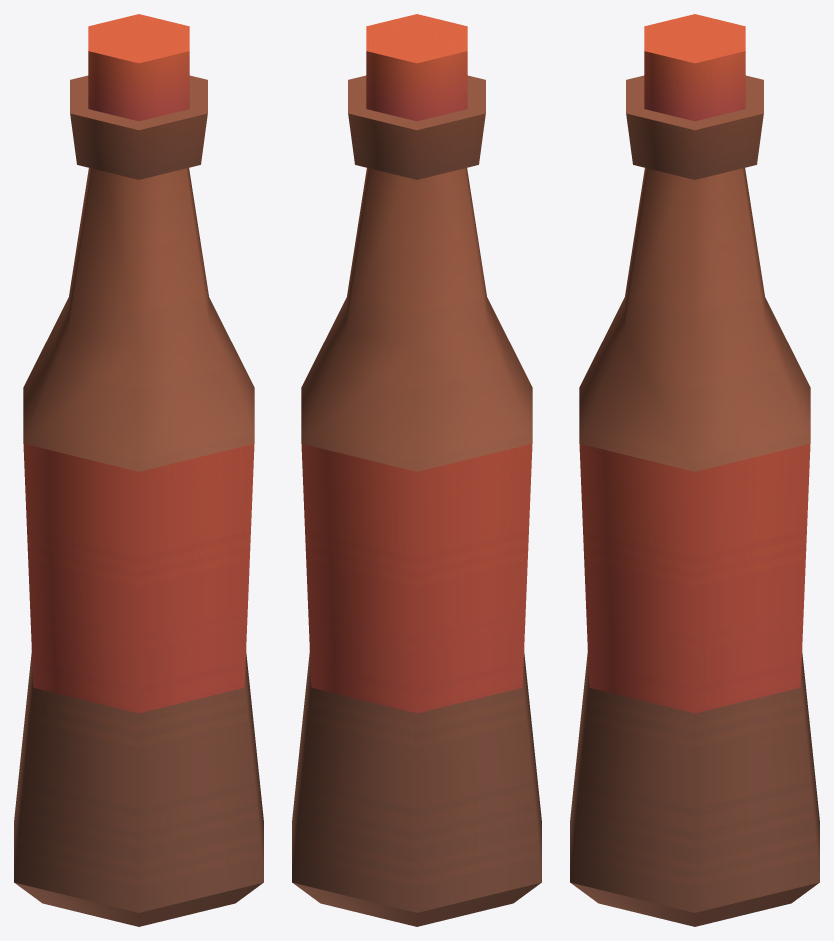
Rendered from soda-bottle.glb.
The picture shows the model from 3 angles, left to right: view 1: azimuth 30°, elevation 25°; view 2: azimuth 150°, elevation 25°; view 3: azimuth 270°, elevation 25°; orthographic projection.
Visible parts, largest first — view 1: soda-bottle; view 2: soda-bottle; view 3: soda-bottle.
Part boxes in pixels (box(x1,y1,x2,y2)): soda-bottle: box(14, 14, 263, 926); soda-bottle: box(292, 14, 541, 926); soda-bottle: box(570, 14, 819, 926).
Size of the model in its own units: 0.1805 by 0.5804 by 0.1563.
1 material, 1 textured.
